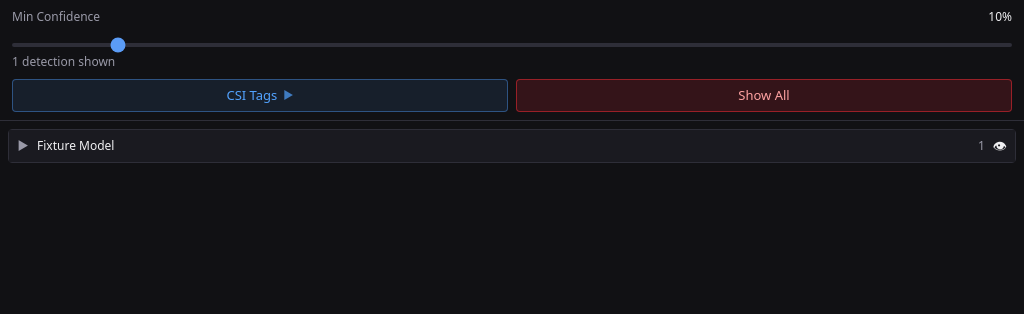
DetectionPanel CSI override security freeze › adopts success messaging only when the CSI response is ok
The image size is (1024, 314).
Click the button "CSI Tags ▶": [260, 95] box [12,78,508,112]
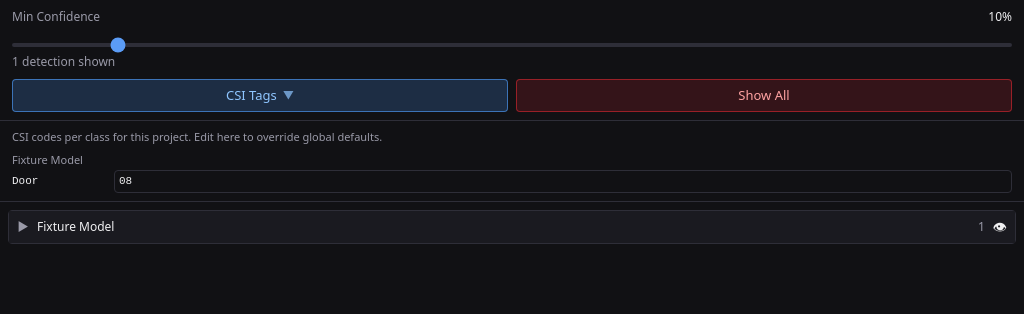
Replace the text in the field with placeholder "CSI codes..." with "09 91 00": [563, 181] box [114,170,1012,192]
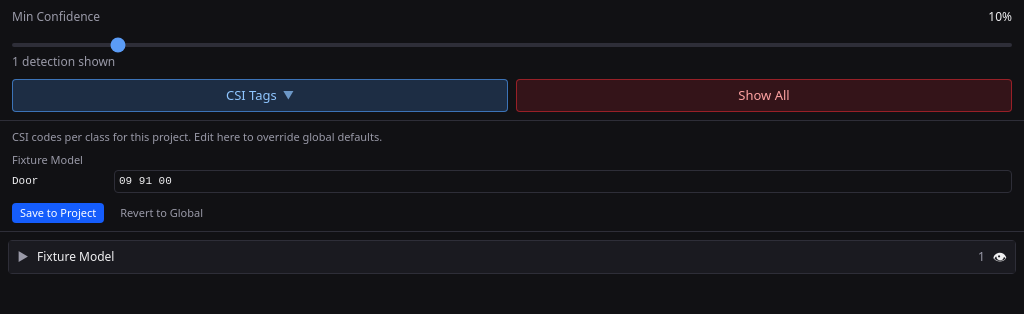
Click the button "Save to Project": [58, 213] box [12,202,104,223]
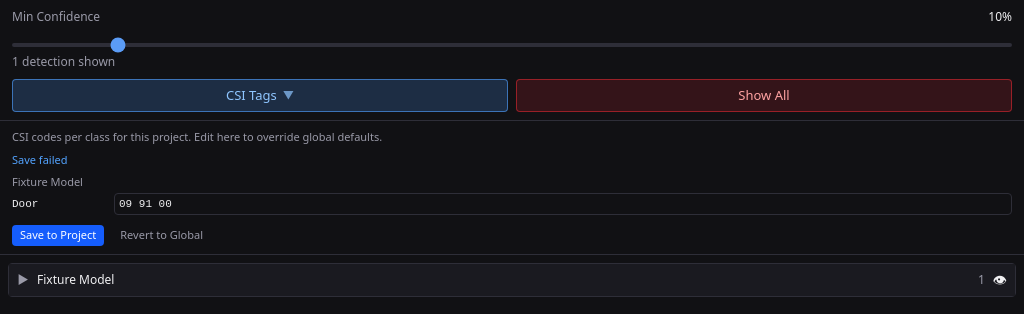
Result: the text "Save failed" is shown at [12,152,68,166]
